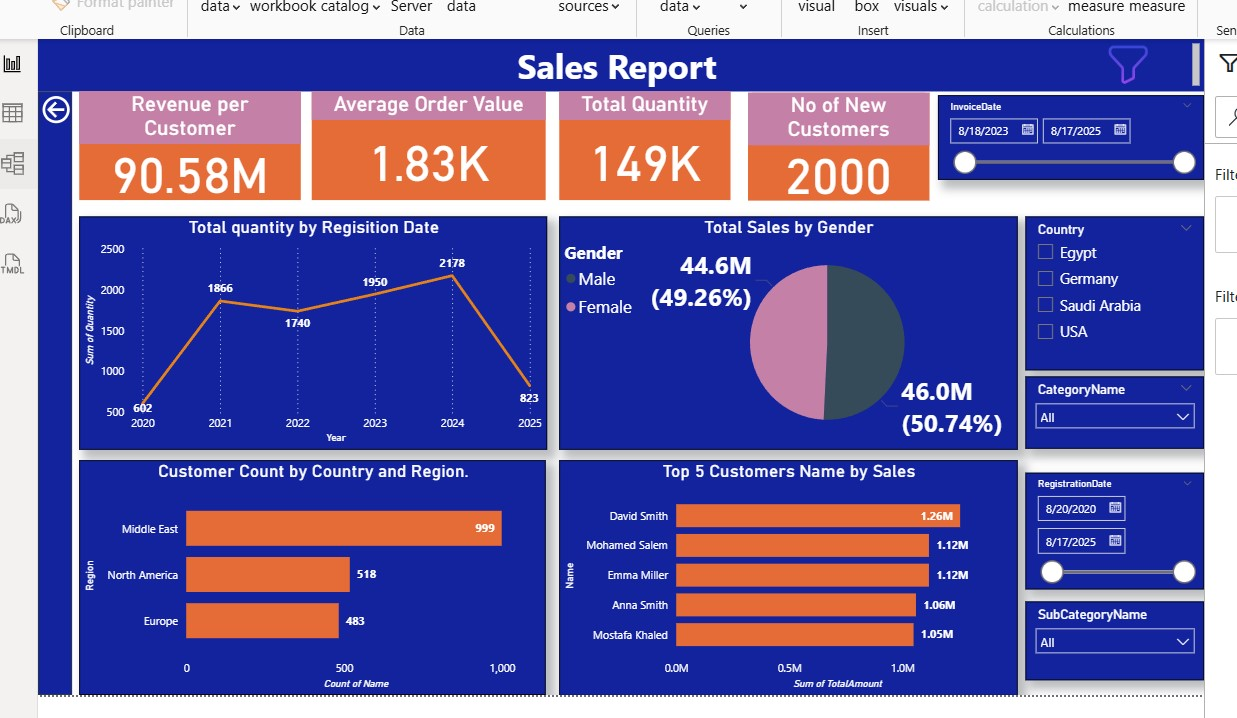

What the dashboard file says about the page in this screenshot:
{"tool":"powerbi","page":{"name":"Customers","canvas":[1280,720],"ordinal":1},"visuals":[{"type":"textbox","box":[0,0,1280,57.9],"z":0},{"type":"shape","box":[0,57.7,37.4,662.3],"z":1000},{"type":"actionButton","box":[0,57.9,48.3,39.8],"z":2000},{"type":"pieChart","title":"Total Sales by Gender","fields":{"Y":["Sum(Fact_Sales.TotalAmount)"],"Category":["Dim_Customer.Gender"]},"box":[571.9,194.2,503.1,255.8],"z":3000},{"type":"barChart","title":"Top 5 Customers Name by Sales","fields":{"Category":["Dim_Customer.Name"],"Y":["Sum(Fact_Sales.TotalAmount)"]},"box":[571.9,462.1,503.1,258.2],"z":4000},{"type":"lineChart","title":"Total quantity by Regisition Date","fields":{"Category":["Dim_Customer.RegistrationDate.Variation.Date Hierarchy.Year","Dim_Customer.RegistrationDate.Variation.Date Hierarchy.Quarter","Dim_Customer.RegistrationDate.Variation.Date Hierarchy.Month"],"Y":["Sum(Fact_Sales.Quantity)"]},"box":[44.6,194.2,513.9,255.8],"z":5000},{"type":"card","title":"Total Orders","fields":{"Values":["_measreses.Total Orders"]},"box":[571.7,57.6,191.5,119.5],"z":6000},{"type":"card","title":"Average Revenue","fields":{"Values":["_measreses.Average Revenue"]},"box":[300.4,57.9,257,119.4],"z":7000},{"type":"image","box":[1112.3,0,167.7,57.9],"z":8000},{"type":"slicer","fields":{"Values":["Fact_Sales.InvoiceDate"]},"box":[988.1,61.5,292,92.9],"z":9000},{"type":"slicer","fields":{"Values":["Dim_Country.Country"]},"box":[1084.1,194.9,196.2,168.8],"z":10000},{"type":"slicer","fields":{"Values":["Dim_Category.CategoryName"]},"box":[1084.1,370.5,196.2,79.6],"z":11000},{"type":"slicer","fields":{"Values":["Dim_Customer.RegistrationDate"]},"box":[1084.1,476.2,196.2,127.6],"z":12000},{"type":"barChart","title":"Customer Count by Country and Region.","fields":{"Y":["CountNonNull(Dim_Customer.Name)"],"Category":["Dim_Country.Country","Dim_Country.Region"]},"box":[45.3,462.4,511.8,258],"z":13000},{"type":"card","title":"Customer Lifetime Value","fields":{"Values":["_measreses.New Customers"]},"box":[777.7,57.6,198.7,118.1],"z":14000},{"type":"slicer","fields":{"Values":["Dim_SubCategory.SubCategoryName"]},"box":[1084.1,617.5,196.2,86.4],"z":15000},{"type":"card","title":"no of customers","fields":{"Values":["_measreses.no of customers"]},"box":[45.3,57.6,242.9,119.4],"z":16000}]}

Visuals, with their boxes in screenshot pixels (x1, y1, x2, y2):
textbox: left=32, top=35, right=1209, bottom=89
shape: left=32, top=88, right=67, bottom=697
actionButton: left=32, top=89, right=77, bottom=125
"Total Sales by Gender" pieChart: left=558, top=214, right=1020, bottom=449
"Top 5 Customers Name by Sales" barChart: left=558, top=460, right=1020, bottom=698
"Total quantity by Regisition Date" lineChart: left=73, top=214, right=546, bottom=449
"Total Orders" card: left=558, top=88, right=734, bottom=198
"Average Revenue" card: left=308, top=89, right=545, bottom=198
image: left=1055, top=35, right=1209, bottom=89
slicer - Fact_Sales.InvoiceDate: left=941, top=92, right=1209, bottom=177
slicer - Dim_Country.Country: left=1029, top=215, right=1209, bottom=370
slicer - Dim_Category.CategoryName: left=1029, top=376, right=1209, bottom=449
slicer - Dim_Customer.RegistrationDate: left=1029, top=473, right=1209, bottom=590
"Customer Count by Country and Region." barChart: left=74, top=460, right=544, bottom=698
"Customer Lifetime Value" card: left=747, top=88, right=930, bottom=197
slicer - Dim_SubCategory.SubCategoryName: left=1029, top=603, right=1209, bottom=682
"no of customers" card: left=74, top=88, right=297, bottom=198
